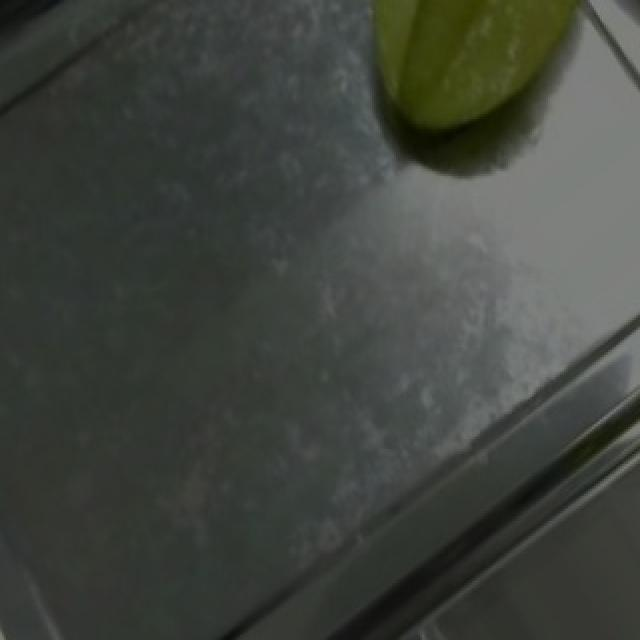fruit: (326, 0, 622, 186)
